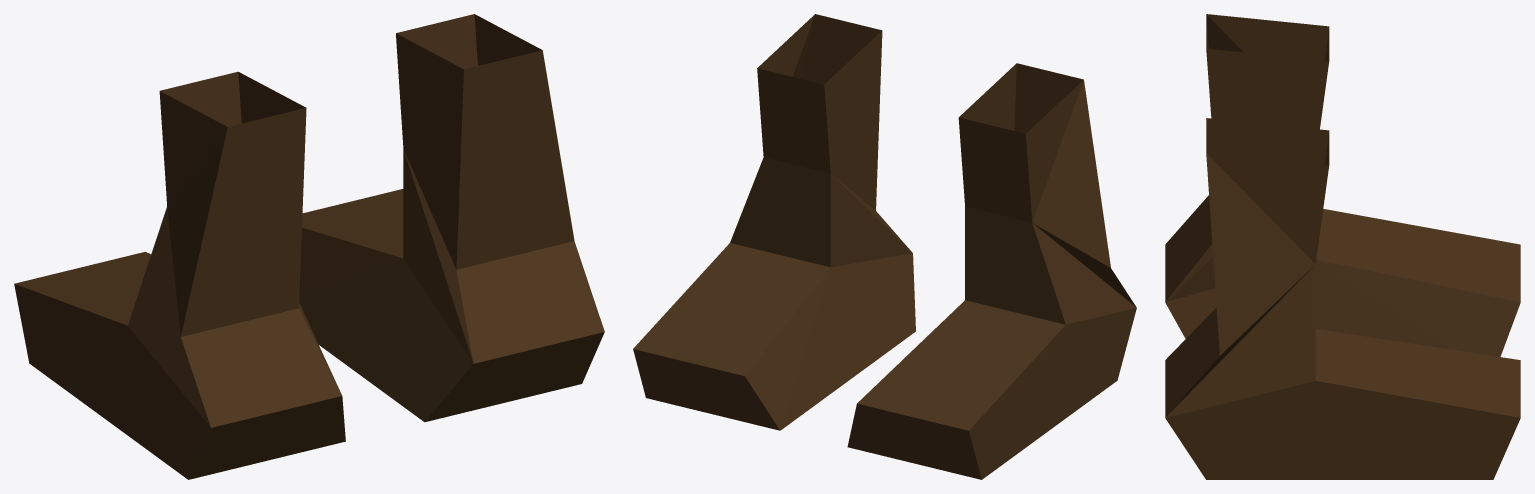
File: npc_world_thurgo_4.obj
3 renders of one model, left to right at view 1: azimuth 30°, elevation 25°; view 2: azimuth 150°, elevation 25°; view 3: azimuth 270°, elevation 25°, orthographic. The views are drawn at different scales.
Size of the model in its own units: 0.2344 by 0.1953 by 0.2031.
